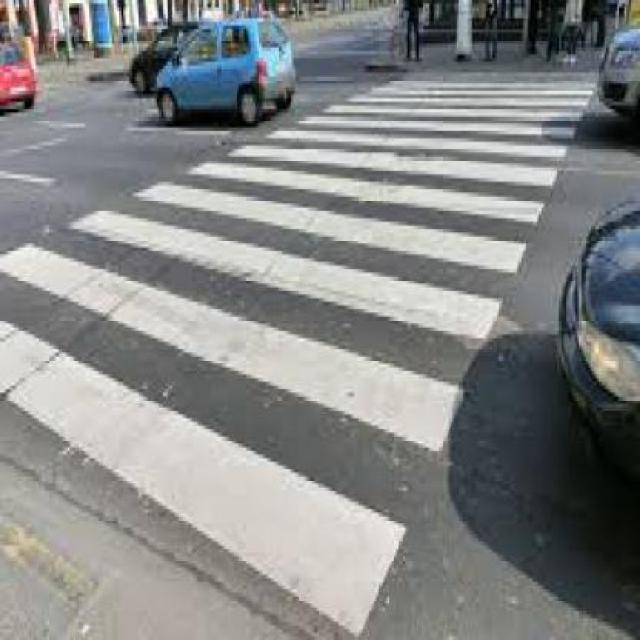Pedestrian crosswalk: (1, 77, 595, 637)
